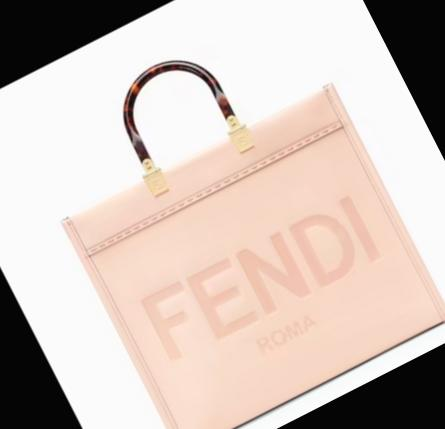FENDI: (138, 192, 381, 364)
